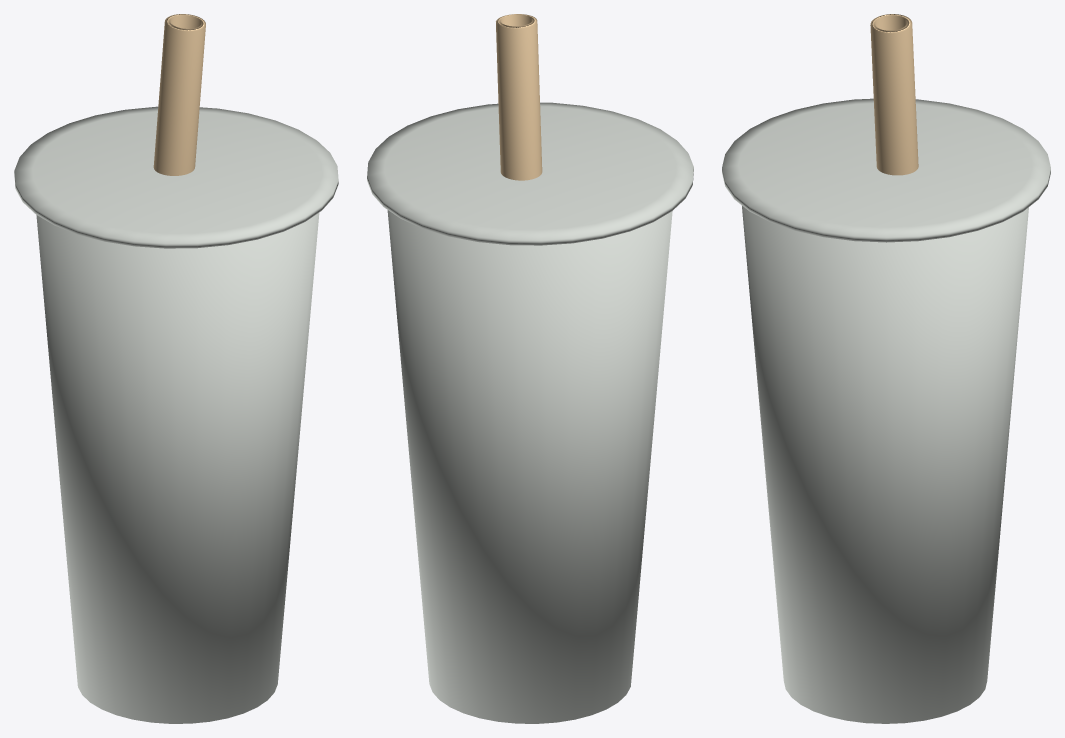
The model's file is boba.glb.
3 views of the same model, side by side, from view 1: azimuth 30°, elevation 25°; view 2: azimuth 150°, elevation 25°; view 3: azimuth 270°, elevation 25° (orthographic).
Parts seen in each view (by area): view 1: Cylinder.001, Cylinder.002, Cylinder.003; view 2: Cylinder.001, Cylinder.002, Cylinder.003; view 3: Cylinder.001, Cylinder.002, Cylinder.003.
Boxes of the visible parts, x1,y1,x2,y2 form: Cylinder.001: (36, 213, 319, 723); Cylinder.002: (14, 106, 338, 248); Cylinder.003: (153, 14, 205, 175); Cylinder.001: (387, 210, 672, 723); Cylinder.002: (367, 102, 693, 245); Cylinder.003: (496, 14, 542, 180); Cylinder.001: (742, 206, 1028, 723); Cylinder.002: (722, 98, 1050, 242); Cylinder.003: (870, 14, 918, 175).
Bounding box in the file's own units: 1.36 × 3.02 × 1.36.
